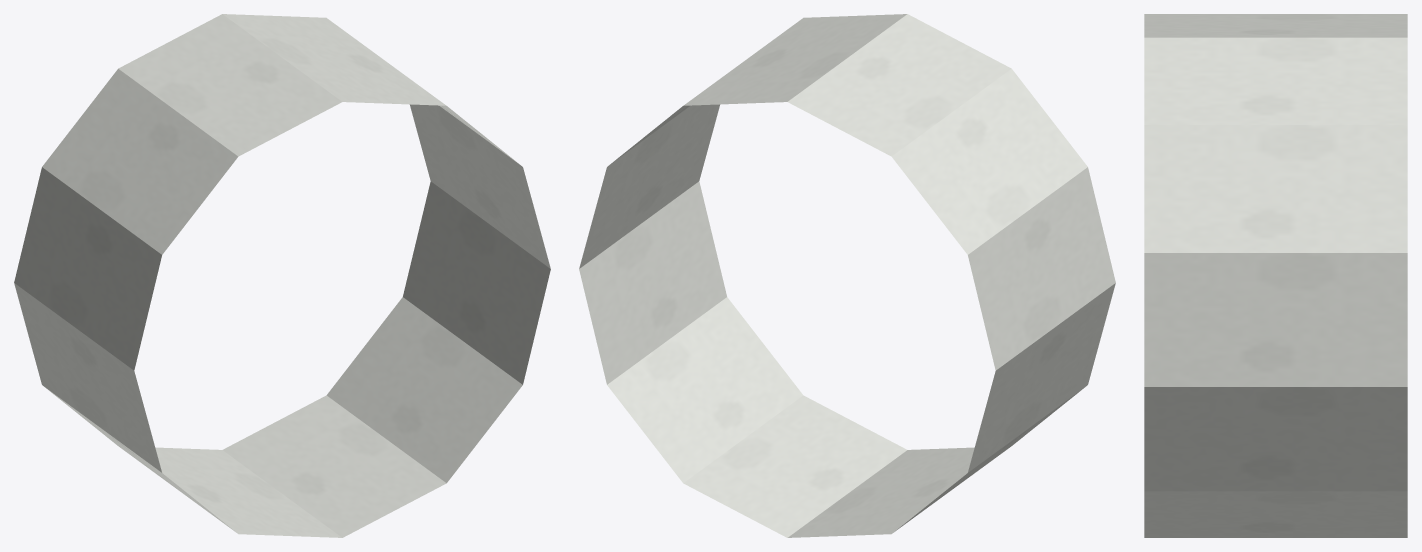
The model's file is body.obj.
3 views of the same model, side by side, from view 1: azimuth 30°, elevation 25°; view 2: azimuth 150°, elevation 25°; view 3: azimuth 270°, elevation 25° (orthographic). The views are drawn at different scales.
Size of the model in its own units: 2 by 2 by 1.
